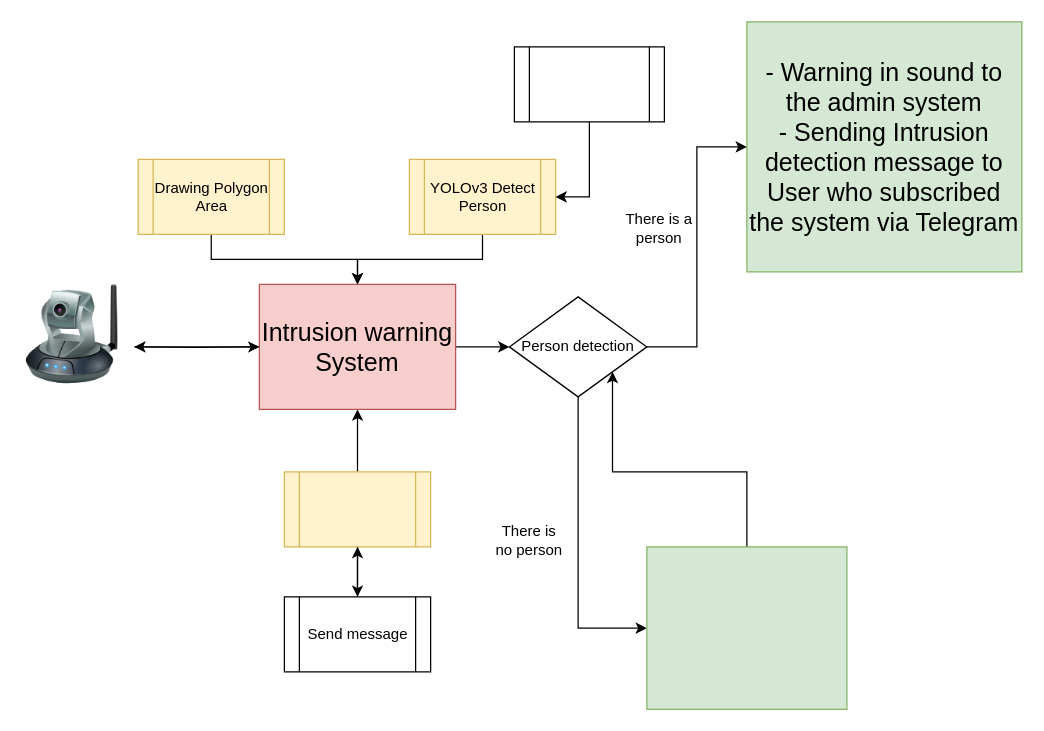
Image size: 1044x731. Some labels were removed from this diagram. The centre of each missing label's shape, as x and y in pixels:
Alert: point (588, 84)
Print "False" to the console screen: point (746, 627)
Telegram Utilities: point (357, 509)
